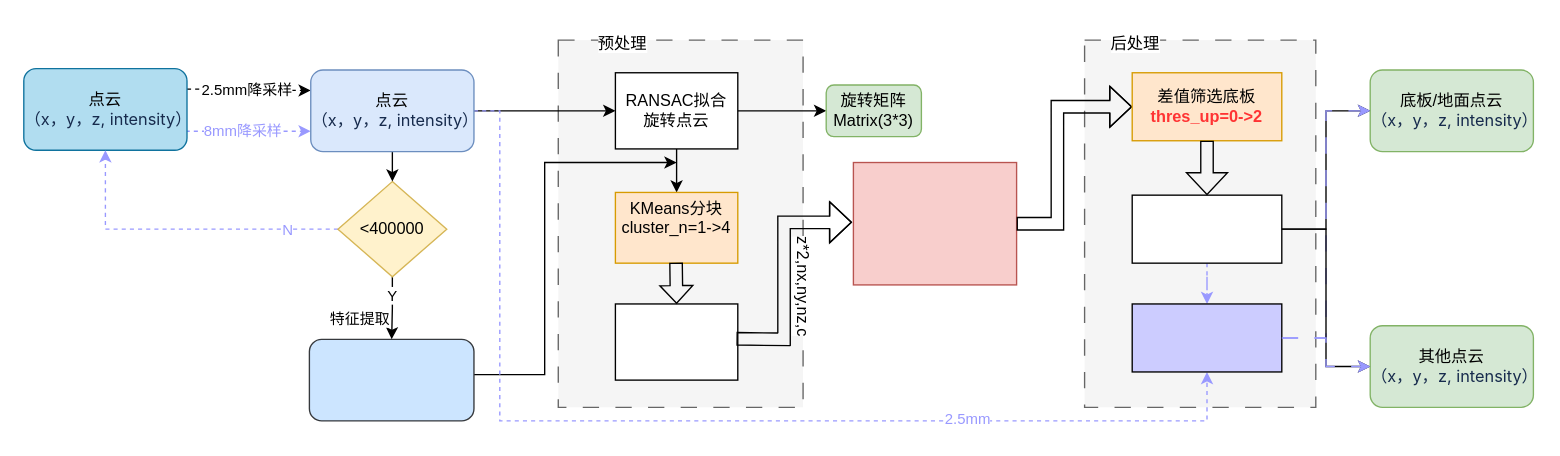
Image size: 1560x456. Some labels were removed from this diagram. The shapes that lost their labels are listed below. From the top down, each one's box as (x1, y1, x2, y2) in pixels, then its label:
(852, 161, 1017, 285): DBSCAN 聚类 地面分割
(1131, 194, 1282, 263): 合并点云
(614, 303, 738, 380): 随机采样 划分数据
(1131, 303, 1282, 372): Findbase 最近邻找底板
(308, 338, 474, 421): 人工特征 （nx, ny, nz， curvature ）
